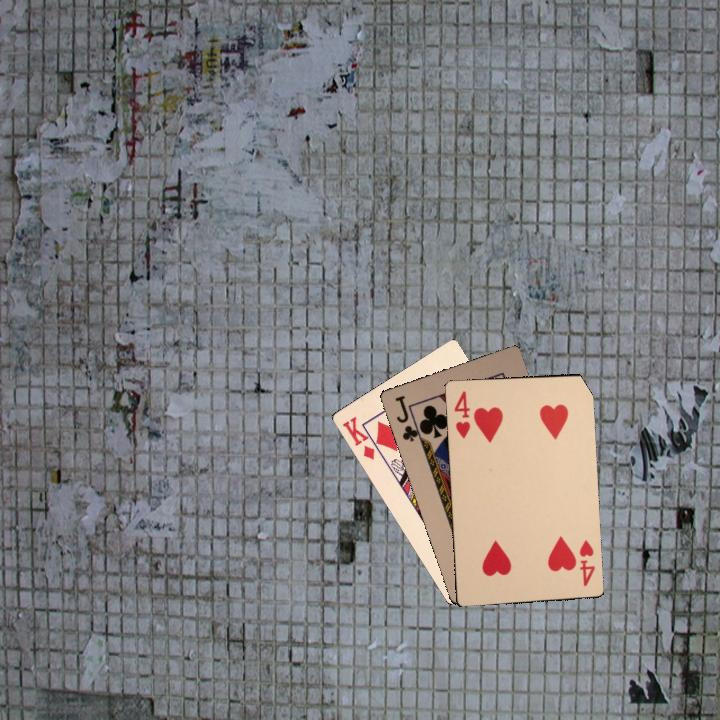4h: (450, 387, 473, 441), (575, 536, 597, 589)
Jc: (391, 391, 425, 444)
Kd: (338, 412, 384, 462)
